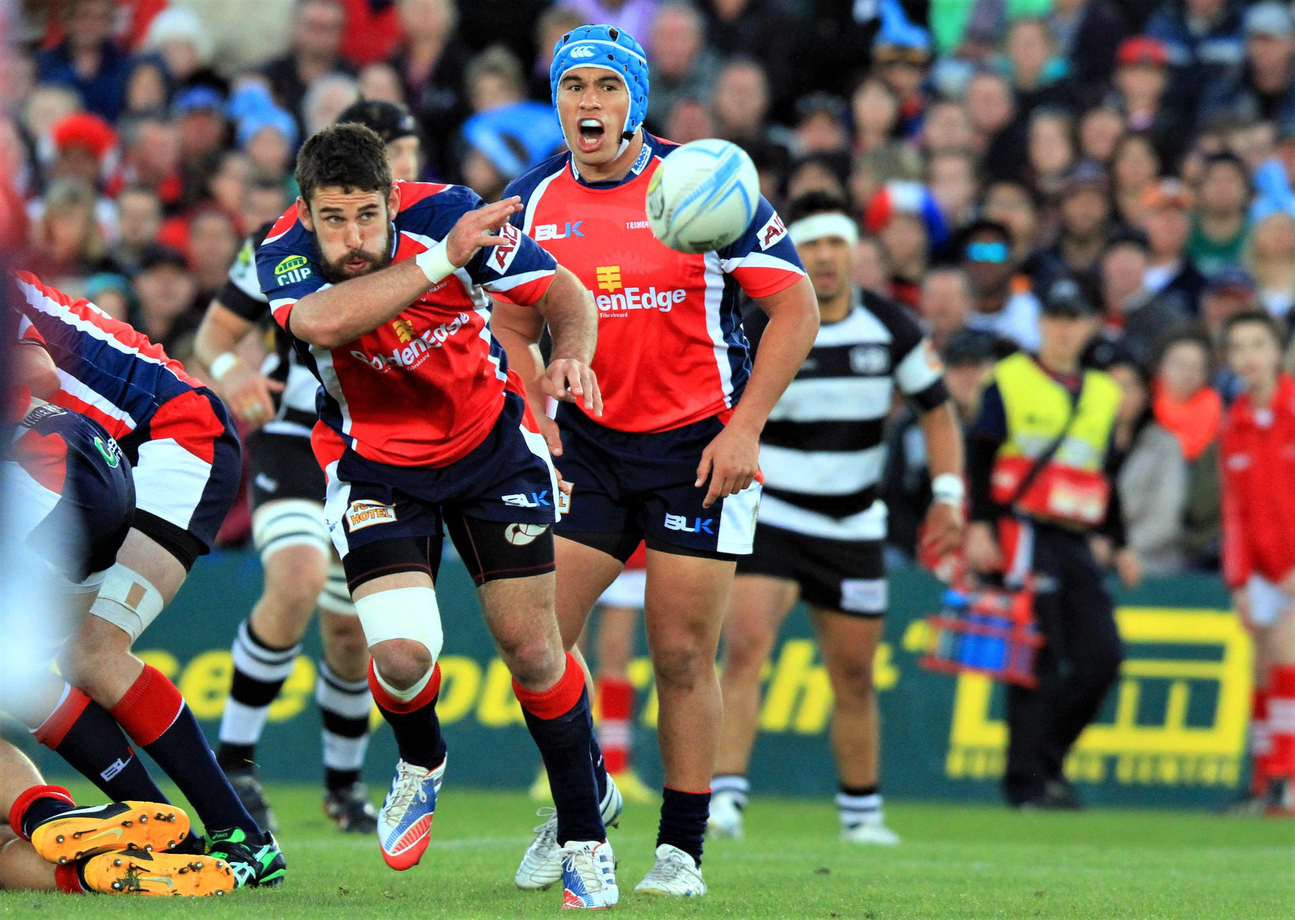ballon_rugby: (638, 125, 768, 259)
